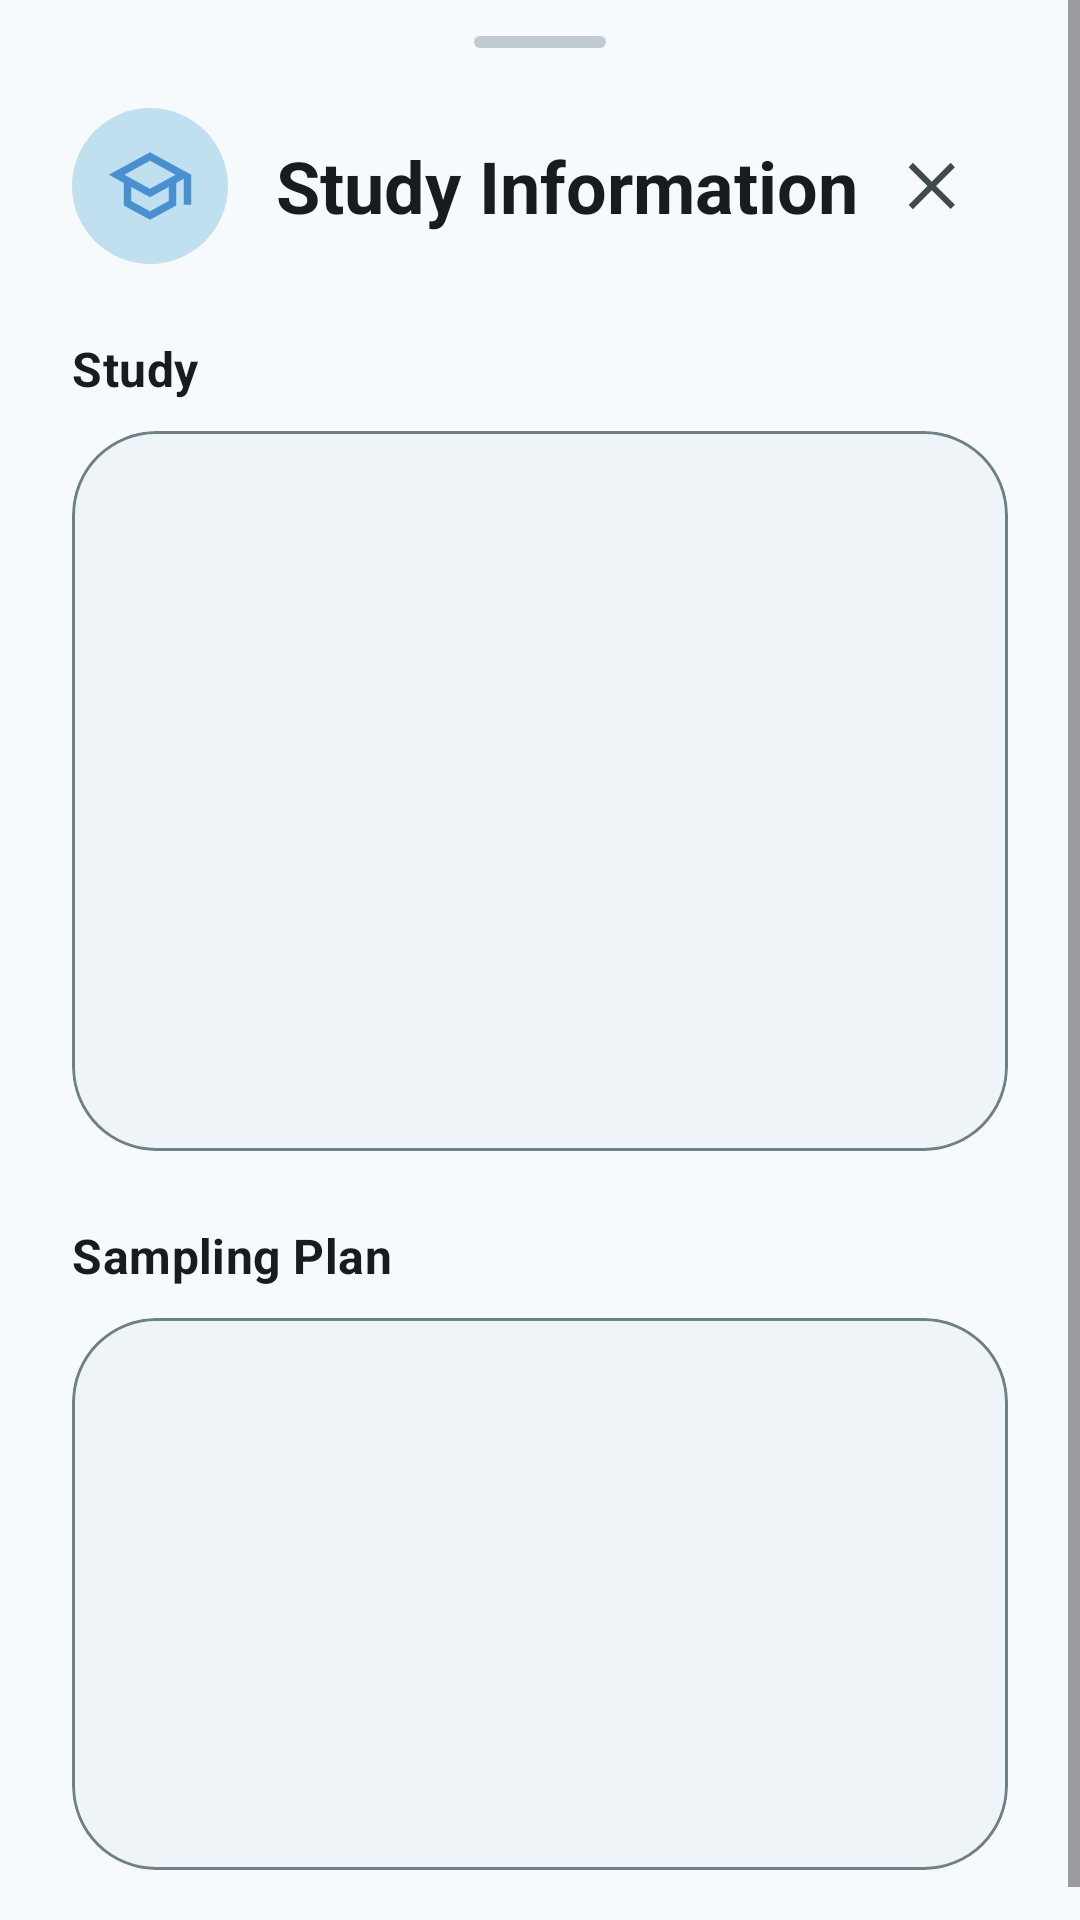

Icons on this 1080 x 1920 Android screen, each with the point to tap as (x,y):
Close: (932,186)
school: (150,186)
